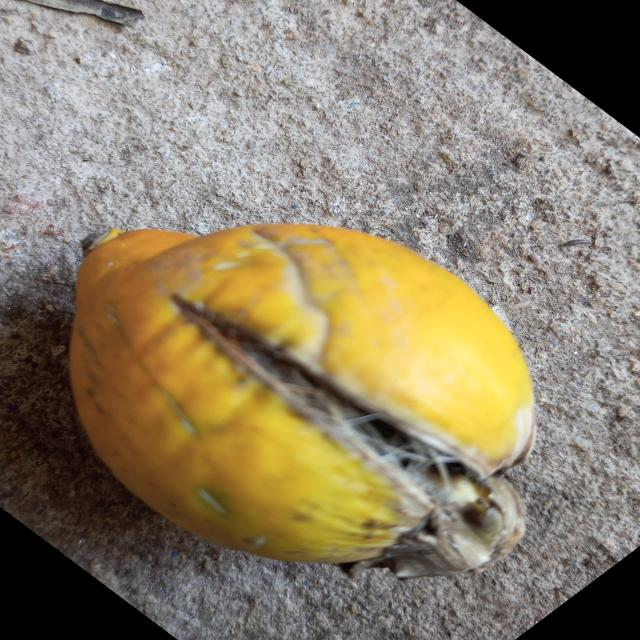damaged: (68, 222, 536, 579)
